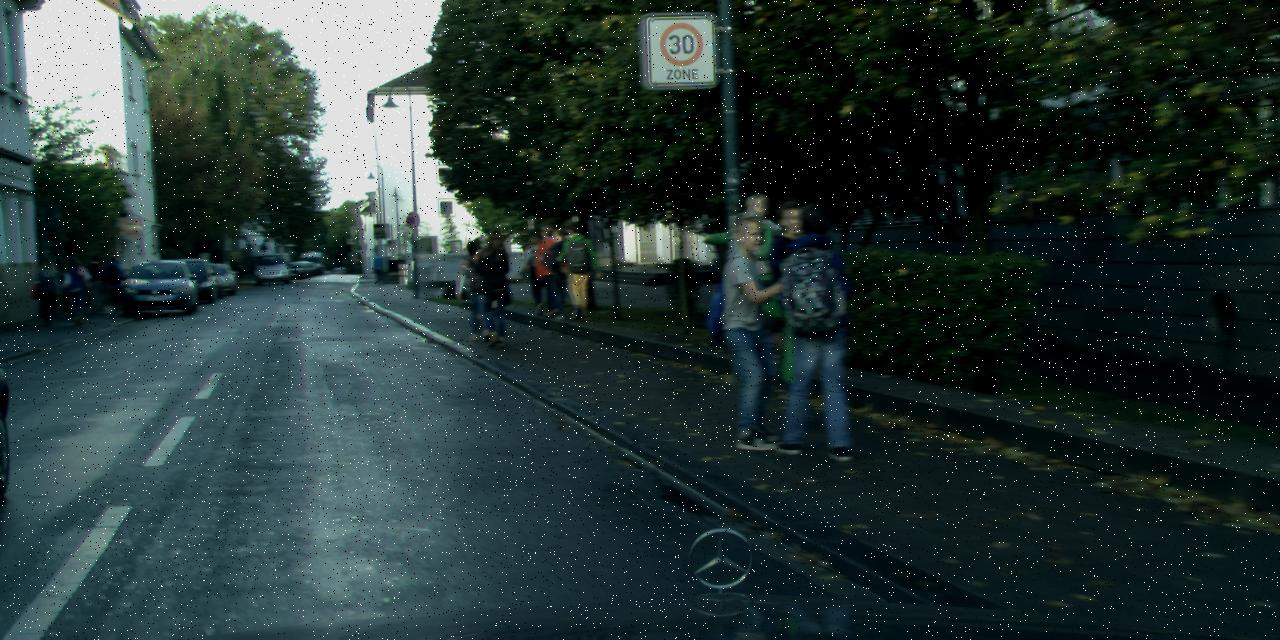ped: (763, 202, 867, 456), (706, 219, 798, 444), (754, 199, 834, 393), (472, 229, 520, 347), (454, 242, 494, 340), (552, 220, 592, 318), (530, 222, 568, 314), (540, 228, 578, 318), (519, 233, 553, 315), (61, 256, 88, 324), (33, 256, 59, 320), (84, 255, 108, 312), (102, 254, 126, 310)
